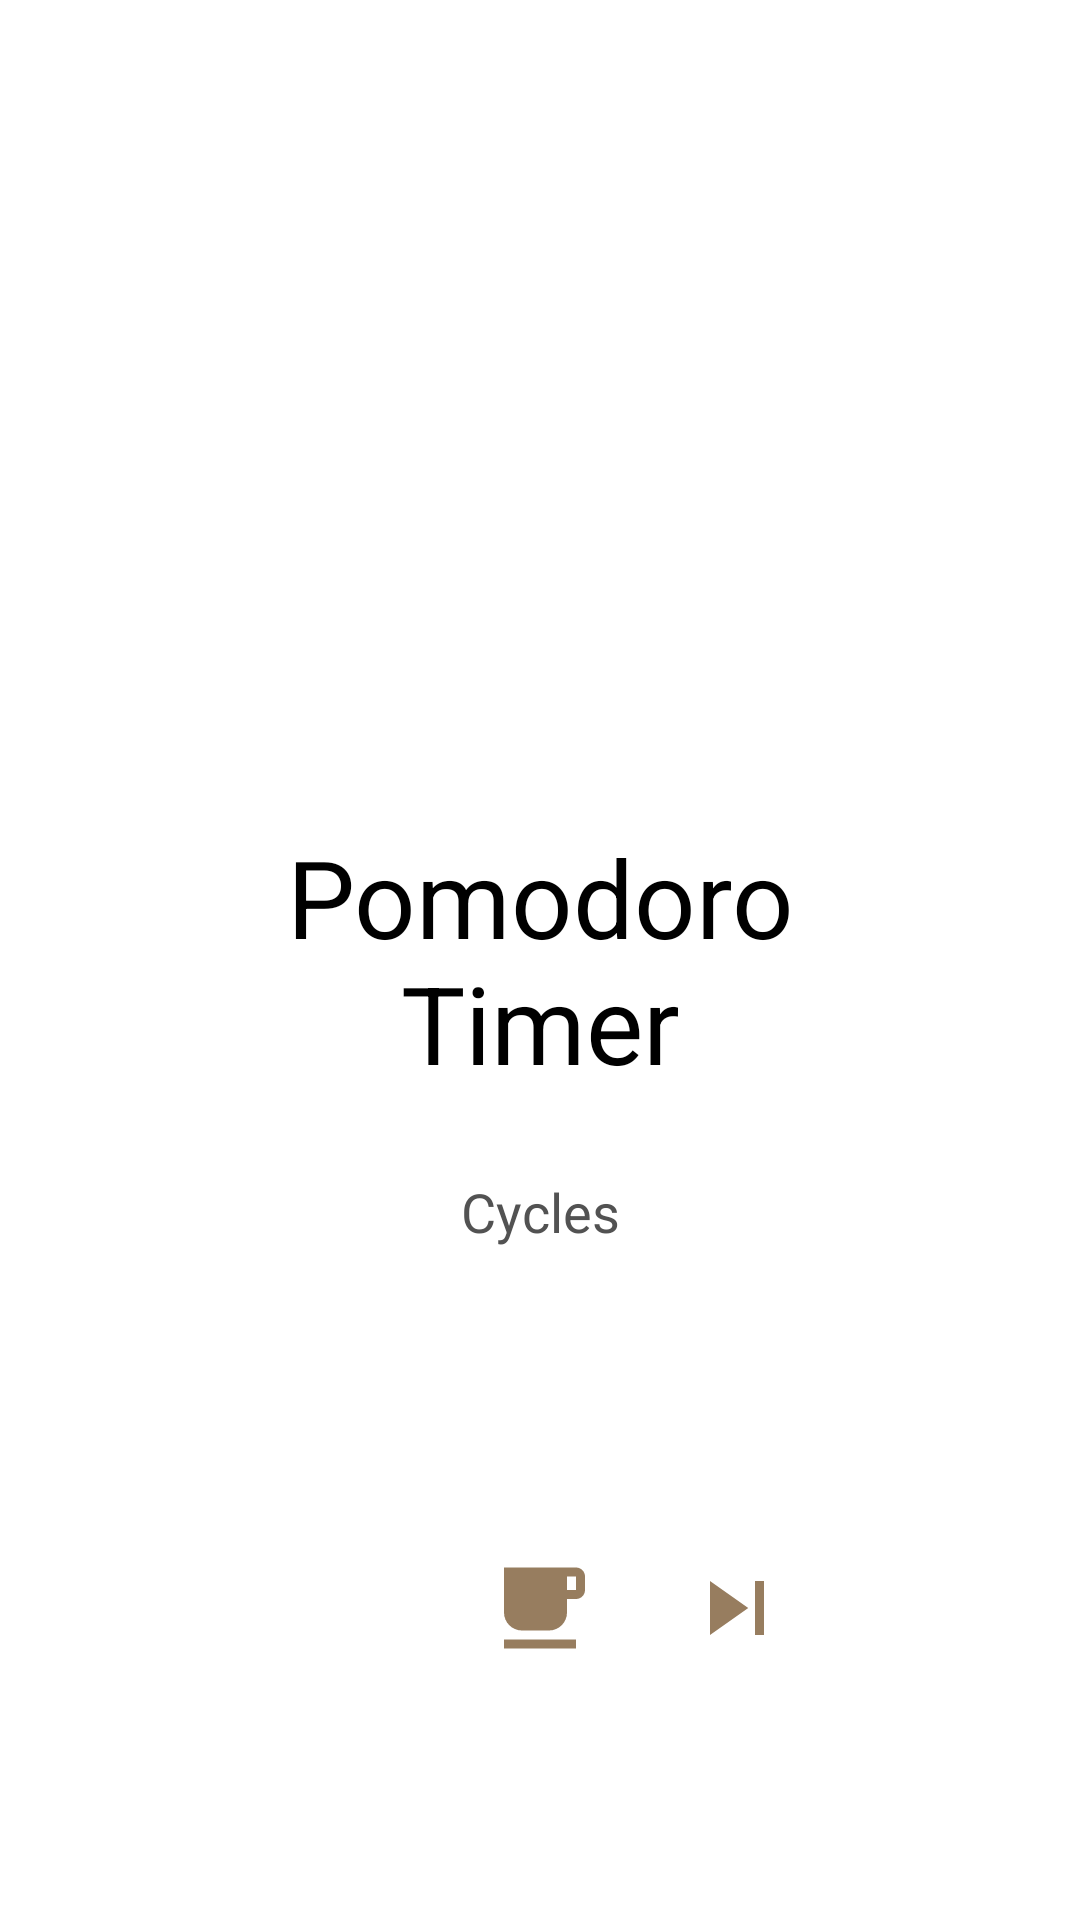

Icon bounding boxes for this 1080x1920 phone screenshot, format (x1, y1, x2, y2):
Break: (504, 1567, 585, 1649)
Skip Break: (710, 1581, 764, 1635)
